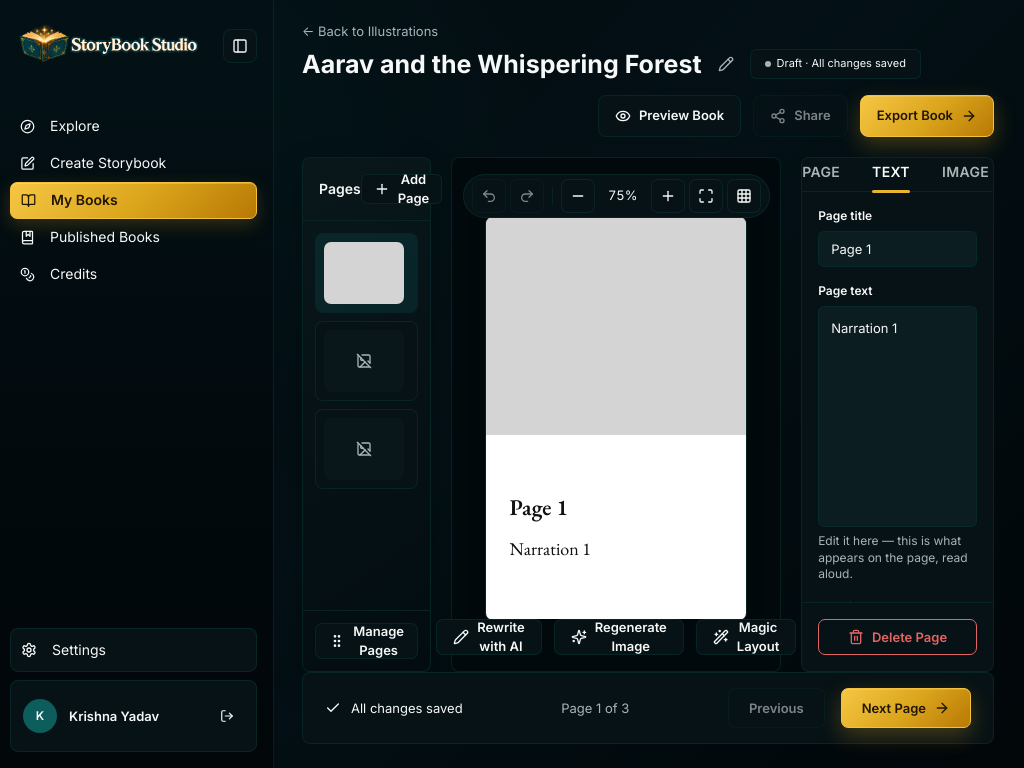
the book editor › moves between pages from the bottom bar
expect the heading "Aarav and the Whispering Forest" is shown: met, box 302,49 -> 702,79
expect the button "Previous" is disabled: met, box 728,688 -> 825,728
Click the button "Next Page": (906, 708) 841,688 -> 971,728
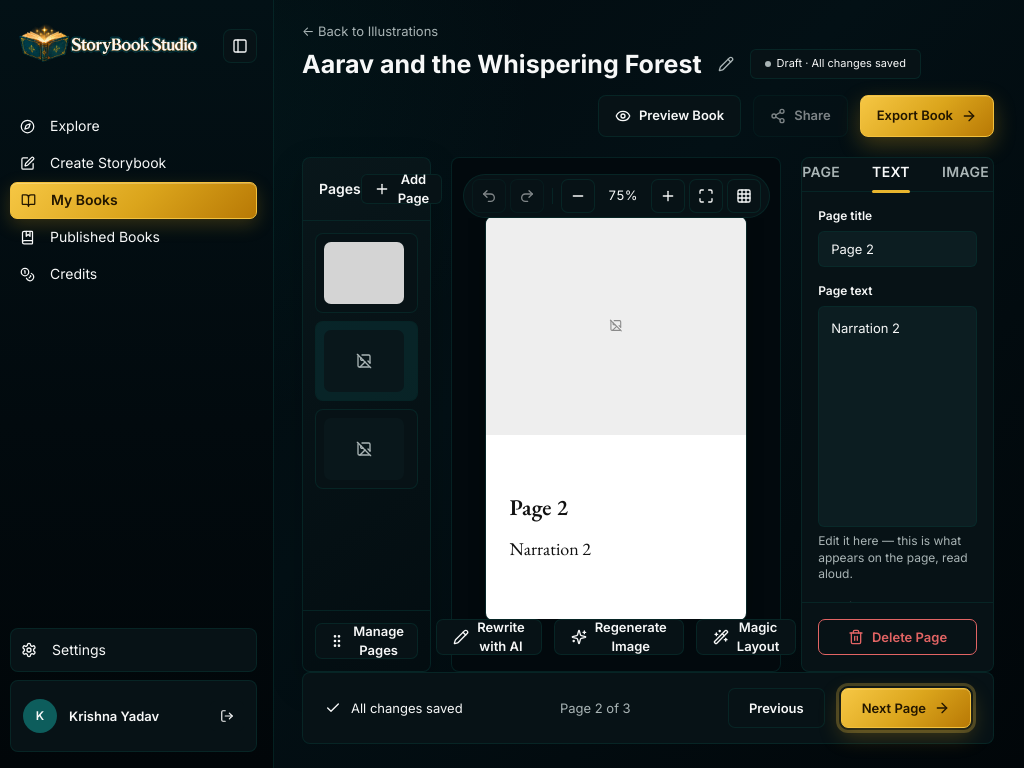
expect the text "Page 2 of 3" is shown: met, box 560,699 -> 631,717
expect the button "Previous" is enabled: met, box 728,688 -> 825,728
